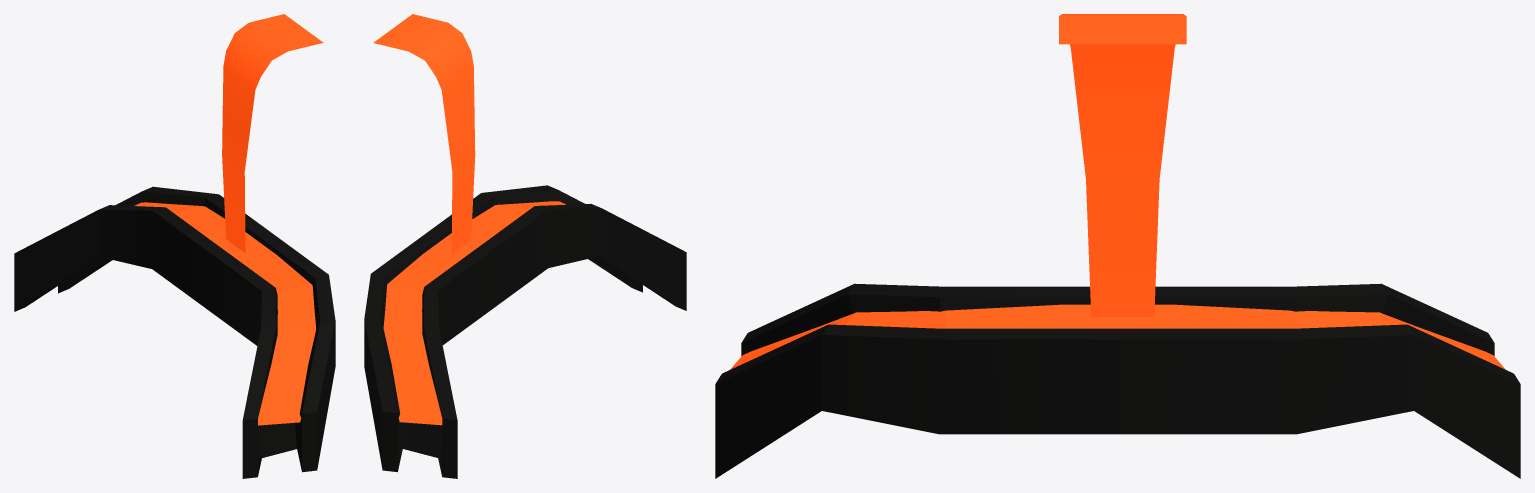
The model's file is WaterfallBig.fbx.
3 renders of one model, left to right at view 1: azimuth 30°, elevation 25°; view 2: azimuth 150°, elevation 25°; view 3: azimuth 270°, elevation 25°, orthographic. The views are drawn at different scales.
Parts seen in each view (by area): view 1: Box107, Plane011, Plane013; view 2: Box107, Plane011, Plane013; view 3: Box107, Plane013, Plane011.
Part boxes in pixels (x1,y1,x2,y2): Box107: (14,186,335,478); Plane011: (134,202,315,425); Plane013: (222,14,323,253); Box107: (364,185,686,478); Plane011: (383,201,565,425); Plane013: (373,14,475,254); Box107: (715,283,1520,478); Plane013: (1059,14,1186,316); Plane011: (730,304,1505,369).
Size of the model in its own units: 34.41 by 60 by 83.61.
